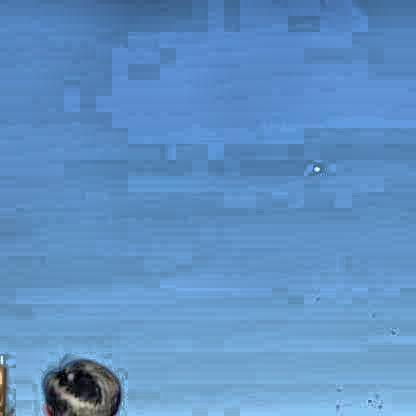golfball: (310, 160, 318, 170)
